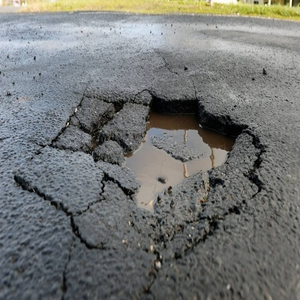pothole: (60, 93, 265, 216)
